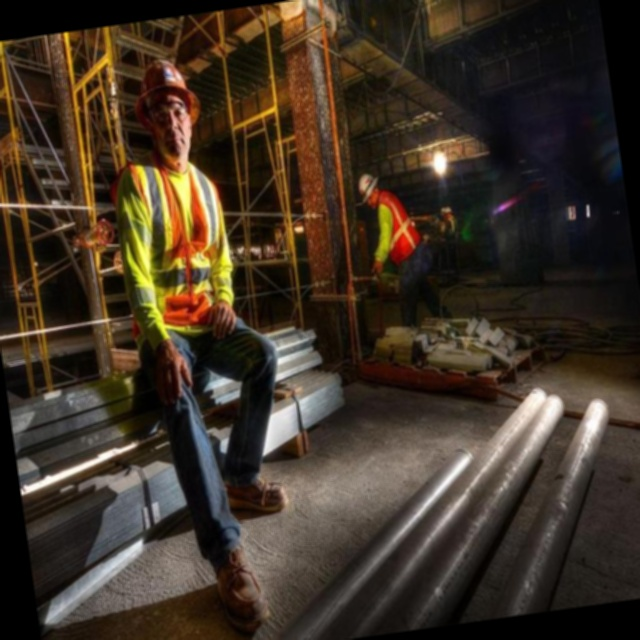goggles: (418, 78, 462, 108)
helmet: (403, 34, 476, 134), (238, 173, 266, 221)
vest: (396, 142, 506, 325), (210, 201, 262, 292)
